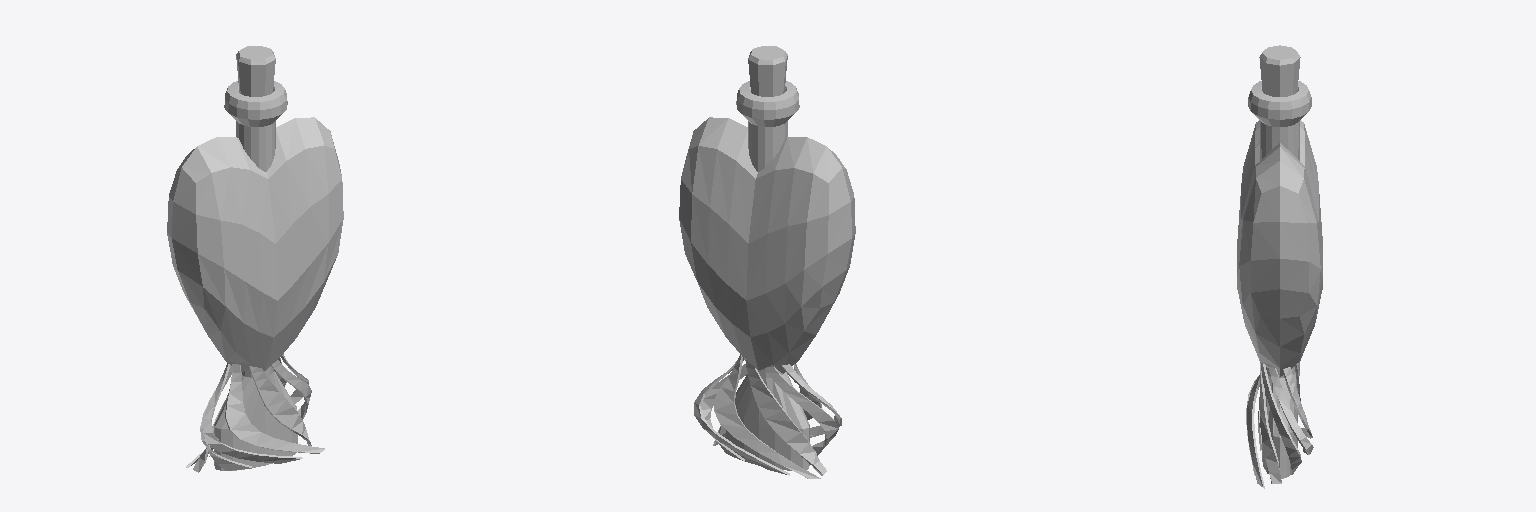
Rendered from Posion_HP.obj.
3 views of the same model, side by side, from view 1: azimuth 30°, elevation 25°; view 2: azimuth 150°, elevation 25°; view 3: azimuth 270°, elevation 25° (orthographic).
Parts seen in each view (by area): view 1: Posion_HP; view 2: Posion_HP; view 3: Posion_HP.
Part boxes in pixels (x1,y1,x2,y2): Posion_HP: (167,46,343,472); Posion_HP: (679,46,855,478); Posion_HP: (1237,45,1322,488).
Bounding box in the file's own units: 0.5079 × 1.17 × 0.2265.